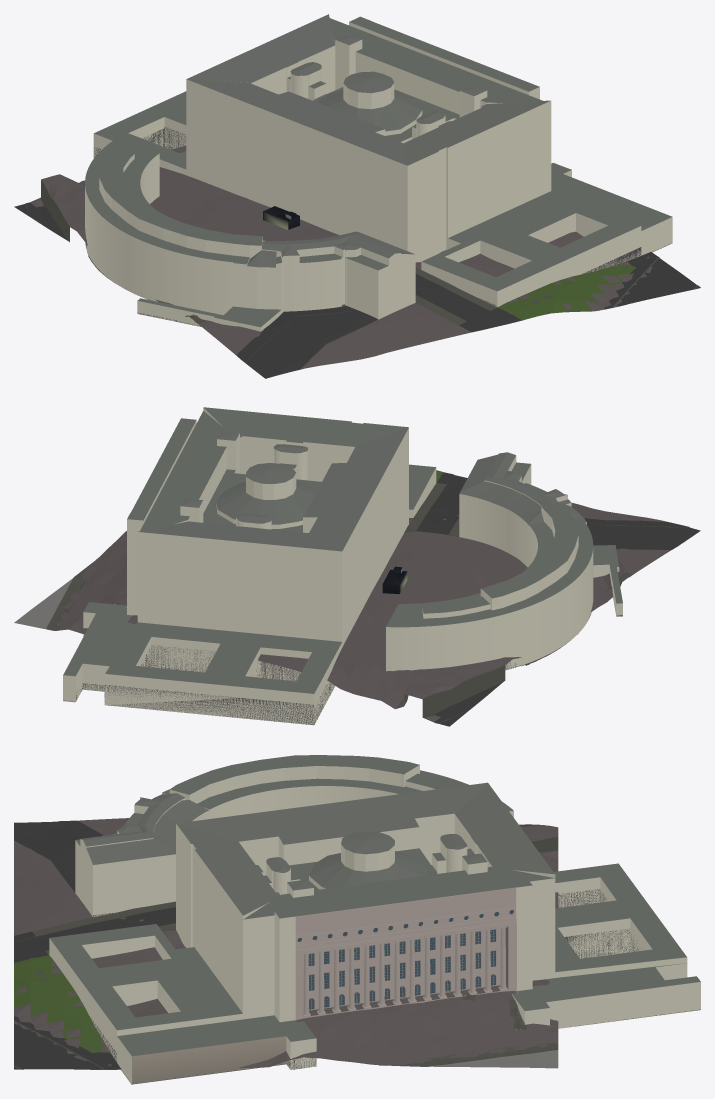
3 views of the same model, one above another, from view 1: azimuth 30°, elevation 25°; view 2: azimuth 150°, elevation 25°; view 3: azimuth 270°, elevation 25° (orthographic). The views are drawn at different scales.
Visible parts, largest first — view 1: c_m09_m03; view 2: c_m09_m03; view 3: c_m09_m03.
Part boxes in pixels (x1,y1,x2,y2): c_m09_m03: (14,14,700,378); c_m09_m03: (14,407,700,726); c_m09_m03: (14,755,700,1084).
Bounding box in the file's own units: 143 × 37.02 × 162.
